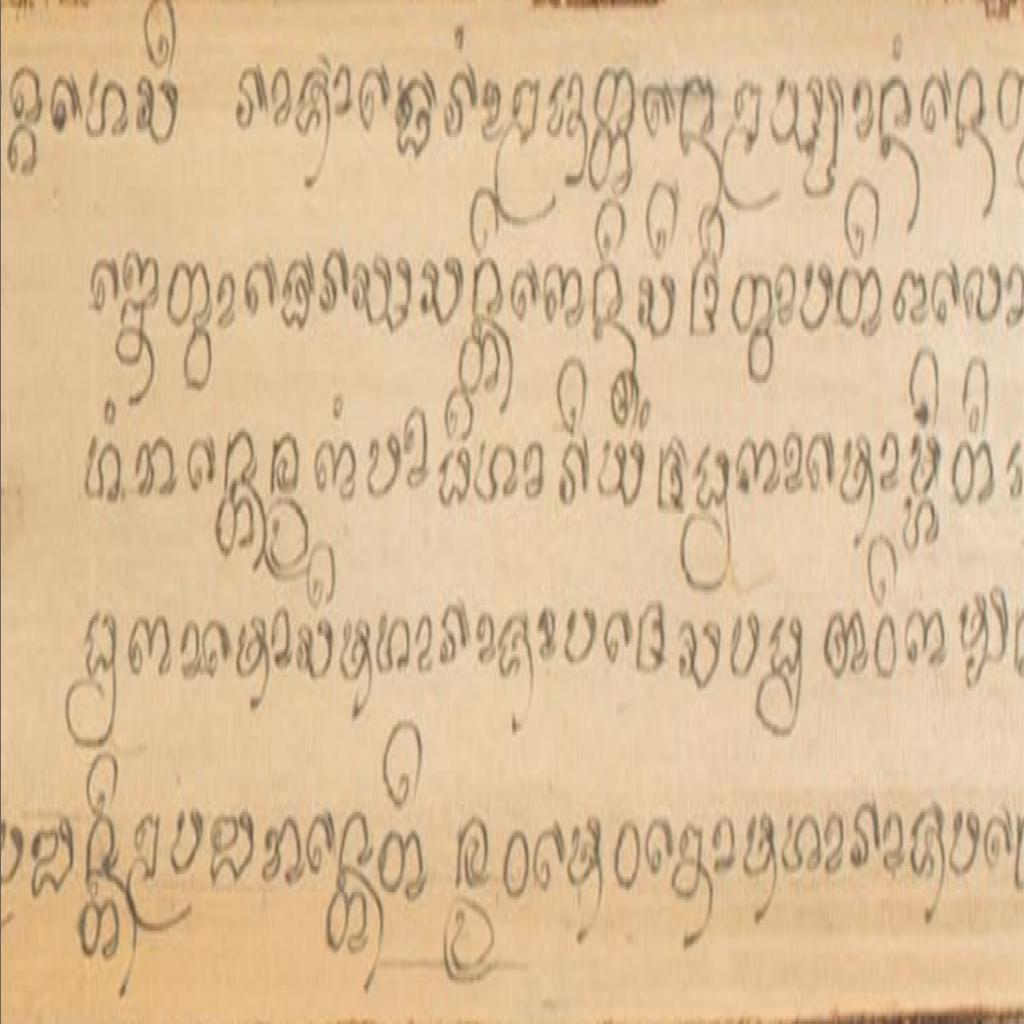LN002: (673, 816, 712, 905)
LN014: (64, 606, 120, 754)
